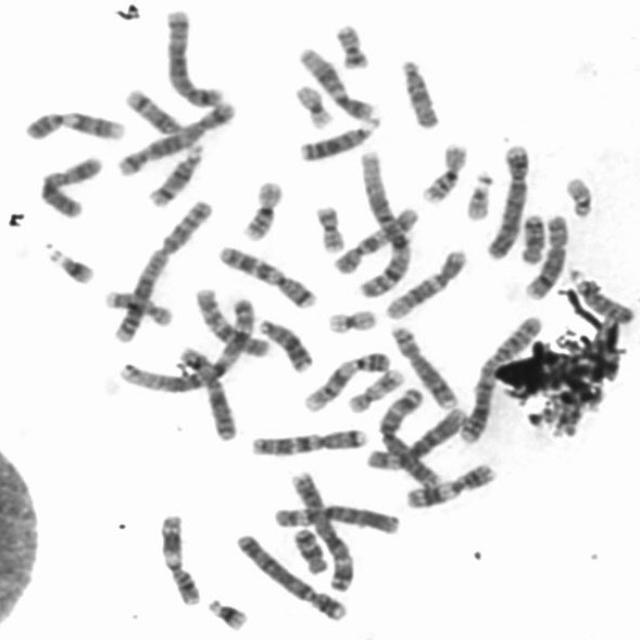A1: (114, 292, 260, 395), (353, 148, 414, 302)
A2: (109, 196, 215, 344), (454, 310, 544, 445)
A3: (287, 468, 356, 593), (377, 386, 442, 490)
B4: (231, 530, 348, 622), (482, 140, 532, 262)
B5: (114, 98, 237, 178), (161, 7, 224, 108)
C10: (328, 204, 421, 276), (191, 283, 271, 359)
C11: (401, 460, 498, 510), (157, 510, 202, 607)
C12: (382, 247, 469, 320), (294, 44, 376, 121)
C6: (363, 403, 468, 472), (268, 500, 401, 536)
C7: (215, 242, 318, 310), (246, 426, 370, 458)
C8: (387, 323, 458, 411), (520, 211, 570, 301)
C9: (300, 348, 392, 414), (20, 106, 128, 144)
D13: (296, 112, 382, 163), (255, 315, 314, 374)
D14: (144, 141, 206, 209), (121, 85, 182, 135)
D15: (398, 54, 441, 130), (572, 276, 634, 325)
E16: (418, 140, 470, 205), (237, 177, 286, 243)
E17: (344, 365, 406, 415), (101, 290, 176, 330)
E18: (288, 525, 330, 575), (517, 211, 547, 266)
F19: (290, 81, 335, 130), (322, 306, 378, 336)
F20: (310, 202, 348, 254), (332, 21, 370, 71)
G21: (46, 246, 98, 287), (204, 595, 250, 631)
G22: (463, 171, 494, 221), (563, 172, 594, 220)
X: (175, 342, 238, 442), (34, 153, 104, 221)
